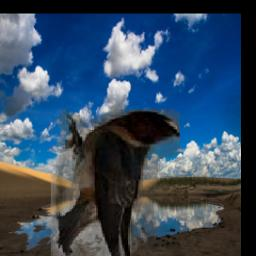Swallow: (52, 110, 181, 256)
